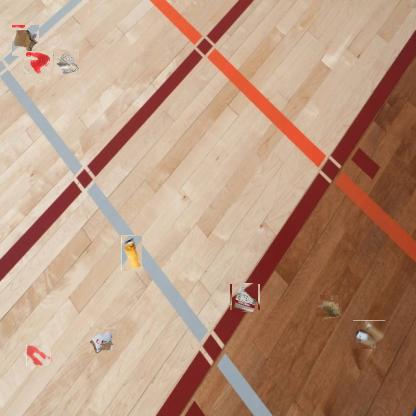dirty: (353, 320, 385, 349), (11, 24, 39, 57), (232, 284, 260, 312), (121, 235, 142, 271), (90, 328, 117, 355), (53, 49, 79, 75), (318, 297, 340, 319)
liquid: (24, 52, 50, 76), (26, 344, 51, 366)
